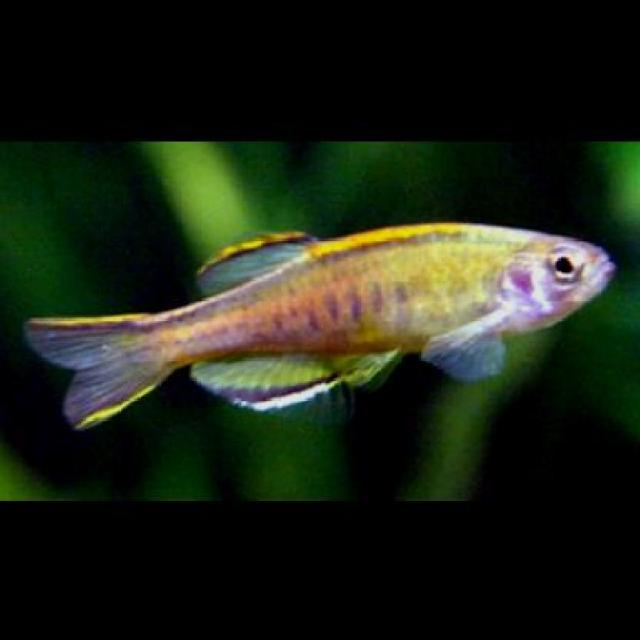ZebraFish: (34, 215, 621, 419)
